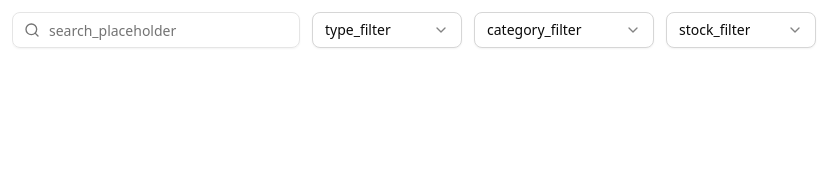
Test: CatalogFilterBar › Dynamic filtering based on other selections › should show only available types based on other filters
Click the dropdown "type_filter" at (387, 30), box top-left (312, 12), bottom-right (462, 48)
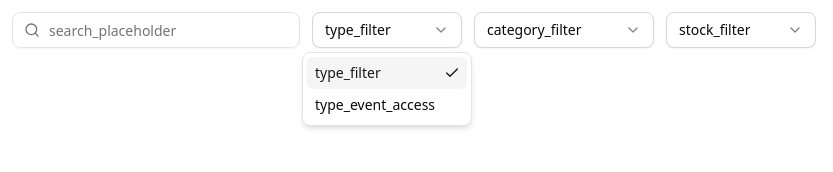
Expected: the option "type_event_access" is shown, top-left (315, 95), bottom-right (435, 114)
